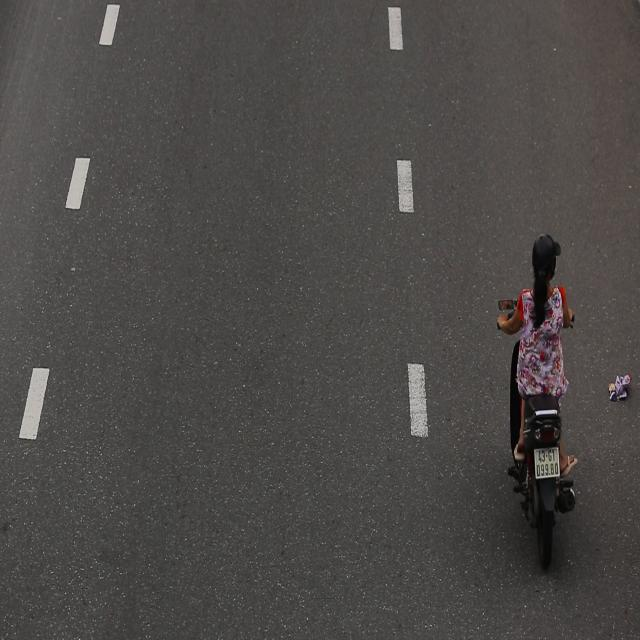motorbike: (500, 218, 584, 572)
